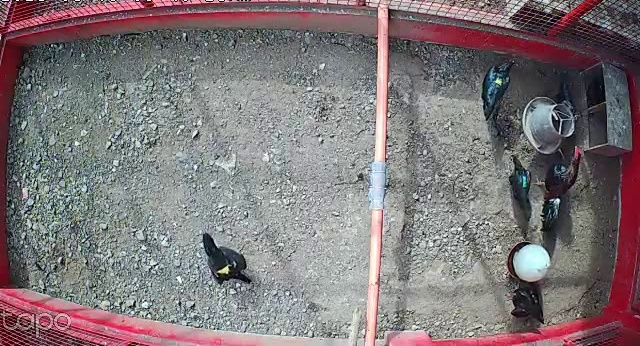Chicken: (196, 230, 253, 288), (499, 278, 548, 329), (503, 151, 534, 224), (481, 57, 516, 121), (554, 74, 585, 130)
Rooster: (531, 143, 588, 234)
Saddle_Color_Yellow: (216, 259, 238, 275)
Saddle_Color_YellowGreen: (494, 74, 504, 86)
